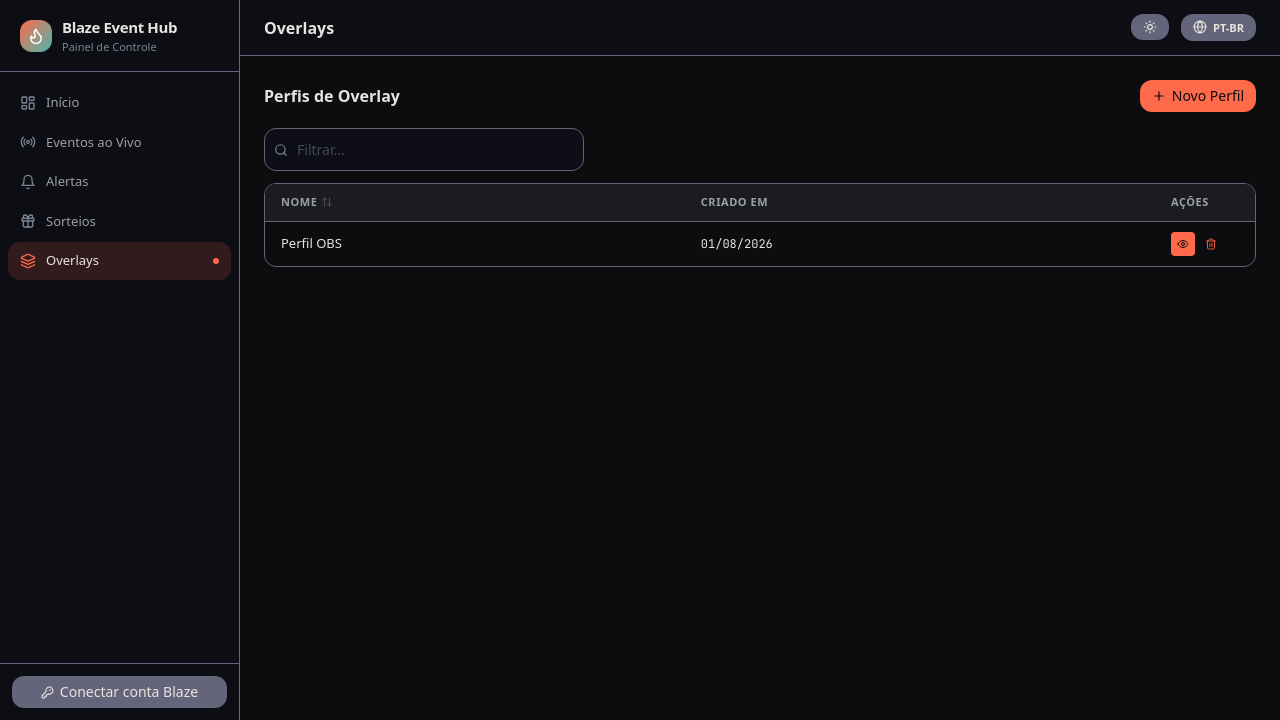
Test: Overlays › creates a profile through the modal and closes it on success
This screenshot has width=1280, height=720.
Step 1. Click the button "Novo Perfil" → {"x": 1198, "y": 96}, box [1140,80,1256,112]
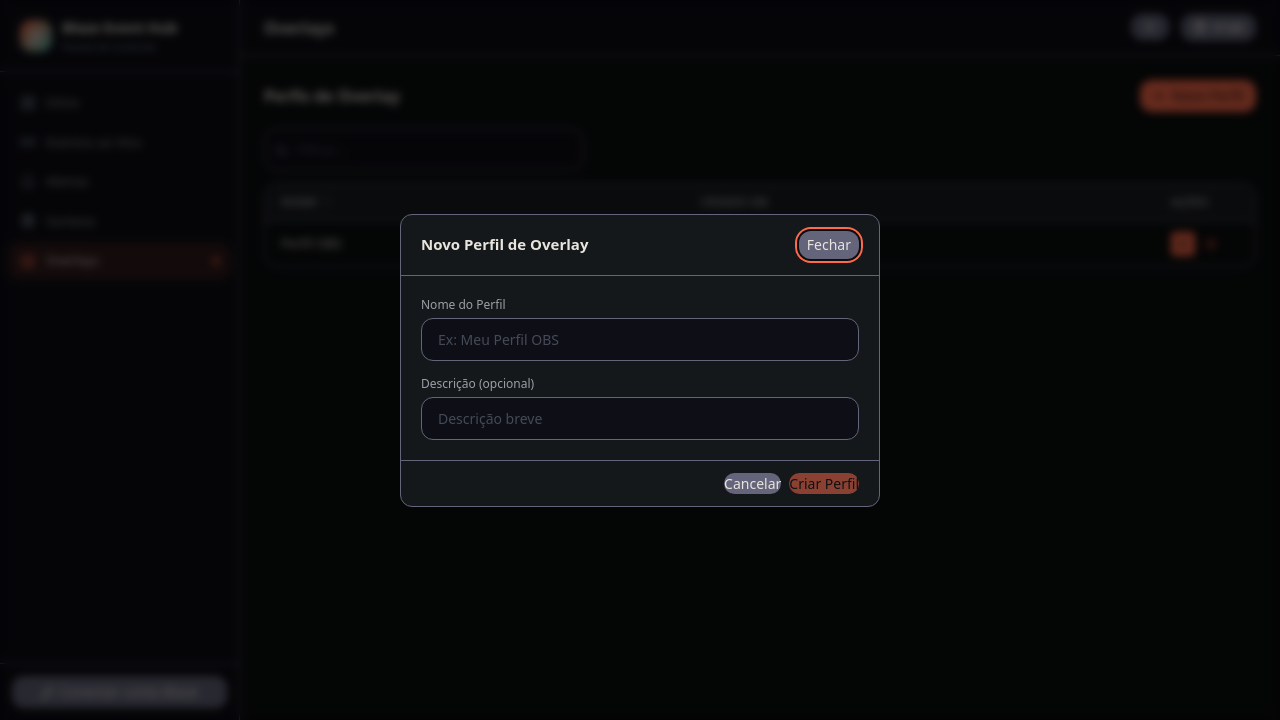
Check: the heading "Novo Perfil de Overlay" is shown, box [421,233,588,256]
Check: the button "Criar Perfil" is disabled, box [789,472,859,494]
Step 2. Type "Perfil novo" into the field labelled "Nome do Perfil" → {"x": 640, "y": 339}, box [421,318,859,360]
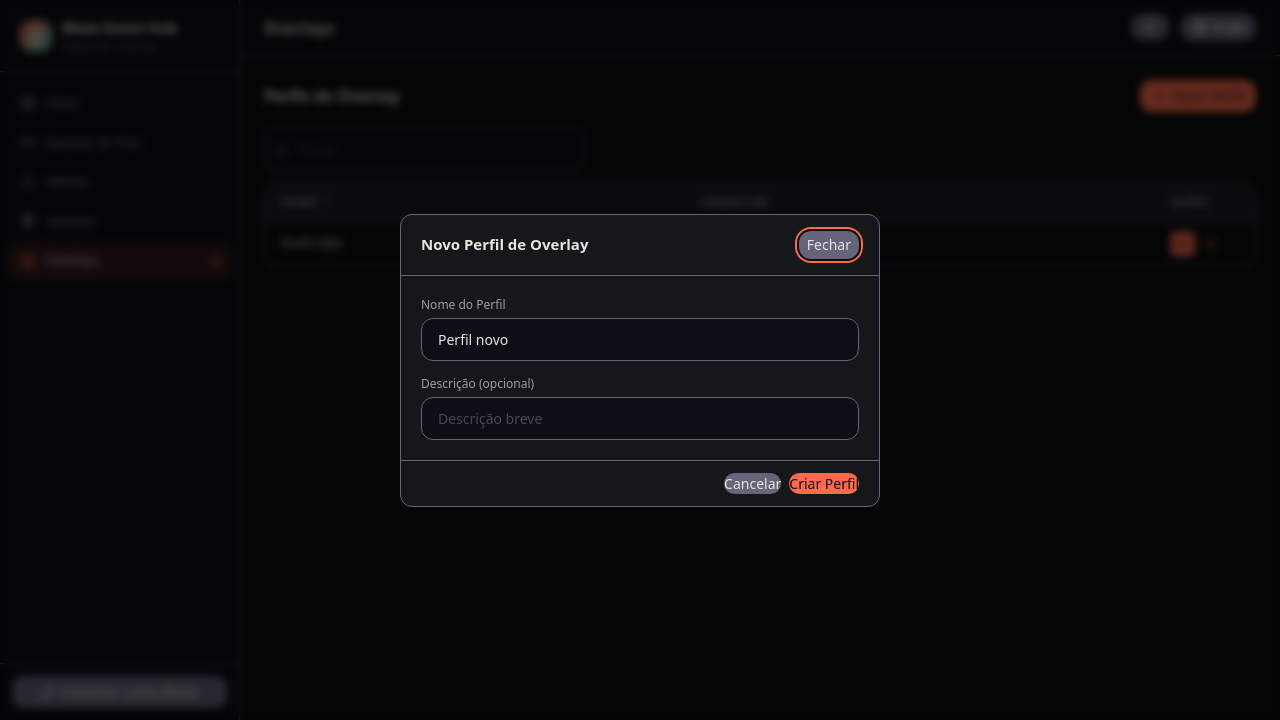
Check: the button "Criar Perfil" is enabled
Step 3. Click the button "Criar Perfil" → {"x": 824, "y": 483}, box [789,472,859,494]
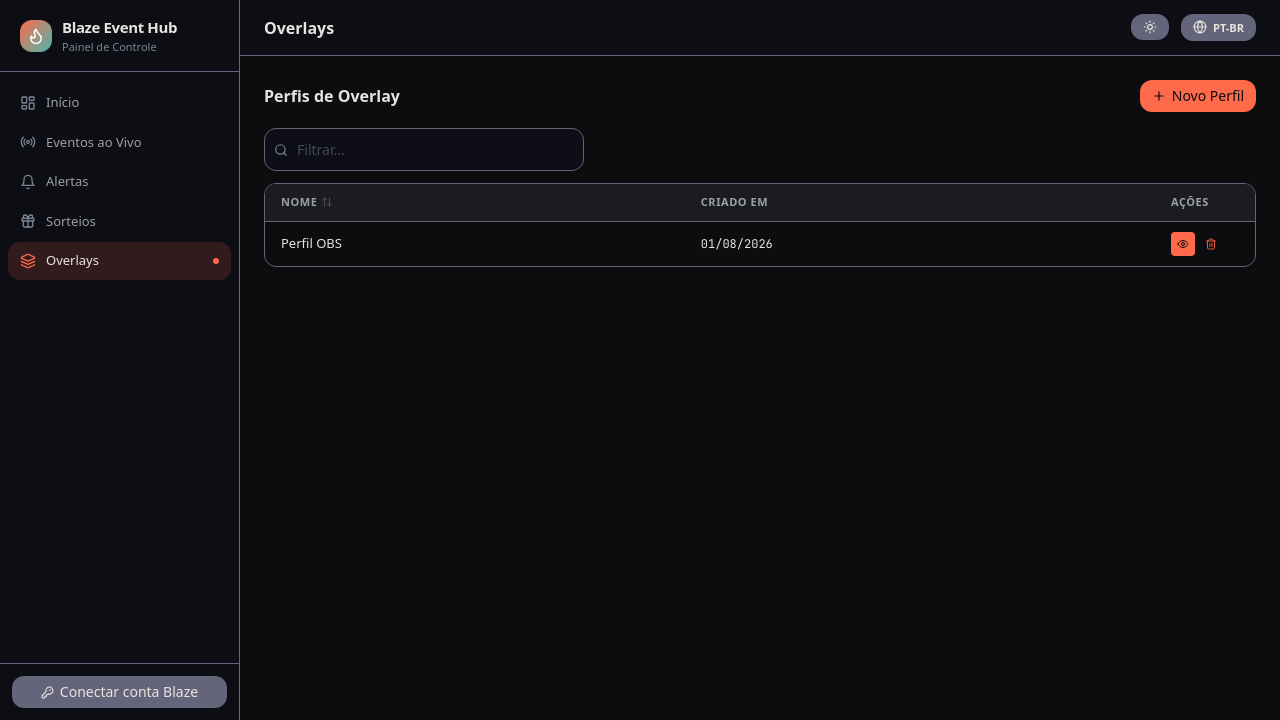
Check: the heading "Novo Perfil de Overlay" is gone
